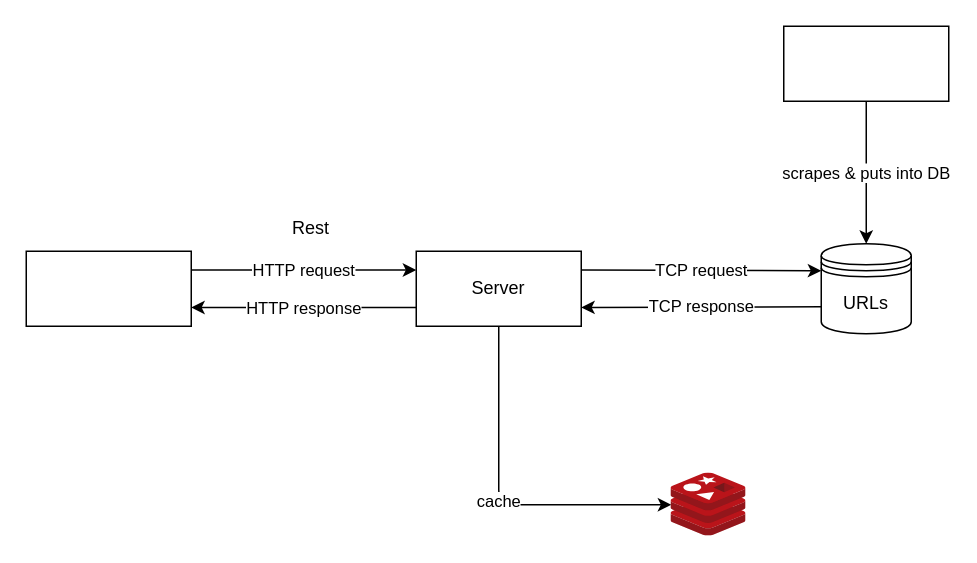
This 977x563 diagram has some shape labels left out. The shapes that lost their labels are listed below. From the top down, each one's box as (x1, y1, x2, y2) in pixels, then its label:
(782, 25, 949, 101): Crawler Service
(25, 250, 191, 326): Client
